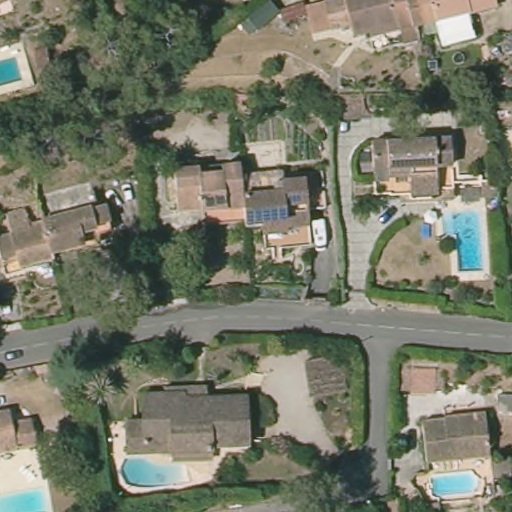pool: (115, 453, 200, 488), (449, 207, 490, 274), (425, 469, 484, 500), (1, 477, 56, 510), (1, 53, 37, 91)
